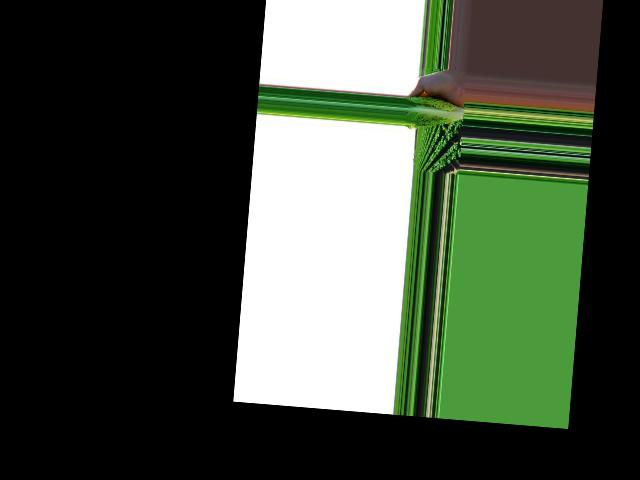lettuce: (406, 96, 465, 131)
